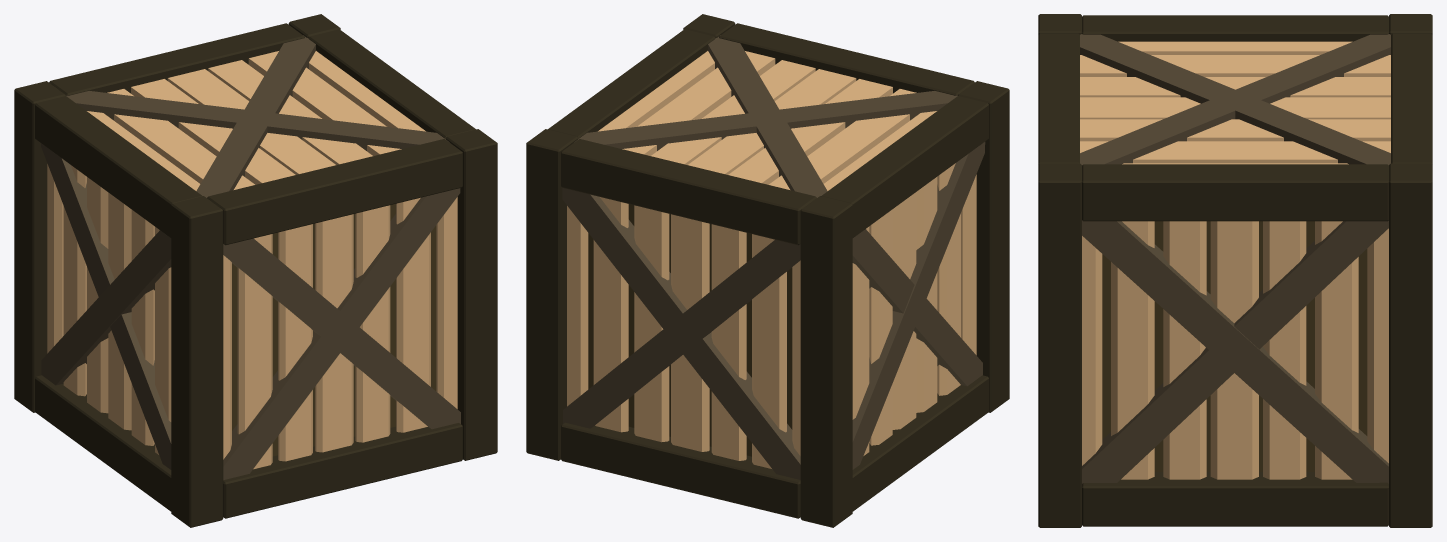
File: MoveBoxTexture.fbx
3 renders of one model, left to right at view 1: azimuth 30°, elevation 25°; view 2: azimuth 150°, elevation 25°; view 3: azimuth 270°, elevation 25°, orthographic. The views are drawn at different scales.
Visible parts, largest first — view 1: HorizontalBeamBack.001, UpSyntez.003, VerticalBeam.001, FrontWoods, UpWoods, SideWoods, Base; view 2: HorizontalBeamBack.001, UpSyntez.003, VerticalBeam.001, FrontWoods, UpWoods, SideWoods, Base; view 3: HorizontalBeamBack.001, SideWoods, UpSyntez.003, VerticalBeam.001, UpWoods, Base.
Boxes of the visible parts, x1,y1,x2,y2 form: HorizontalBeamBack.001: [35, 23, 475, 518]; UpSyntez.003: [41, 35, 460, 479]; VerticalBeam.001: [14, 14, 497, 527]; FrontWoods: [223, 197, 457, 469]; UpWoods: [87, 51, 425, 190]; SideWoods: [47, 164, 171, 454]; Base: [232, 204, 436, 456]; HorizontalBeamBack.001: [548, 23, 988, 518]; UpSyntez.003: [562, 35, 985, 479]; VerticalBeam.001: [526, 14, 1009, 527]; FrontWoods: [567, 197, 800, 468]; UpWoods: [598, 51, 936, 190]; SideWoods: [852, 163, 976, 455]; Base: [588, 204, 792, 456]; HorizontalBeamBack.001: [1038, 15, 1432, 526]; SideWoods: [1082, 221, 1388, 479]; UpSyntez.003: [1080, 34, 1390, 483]; VerticalBeam.001: [1038, 14, 1432, 527]; UpWoods: [1080, 41, 1390, 164]; Base: [1102, 221, 1367, 471].
Size of the model in its own units: 232 by 224 by 231.
